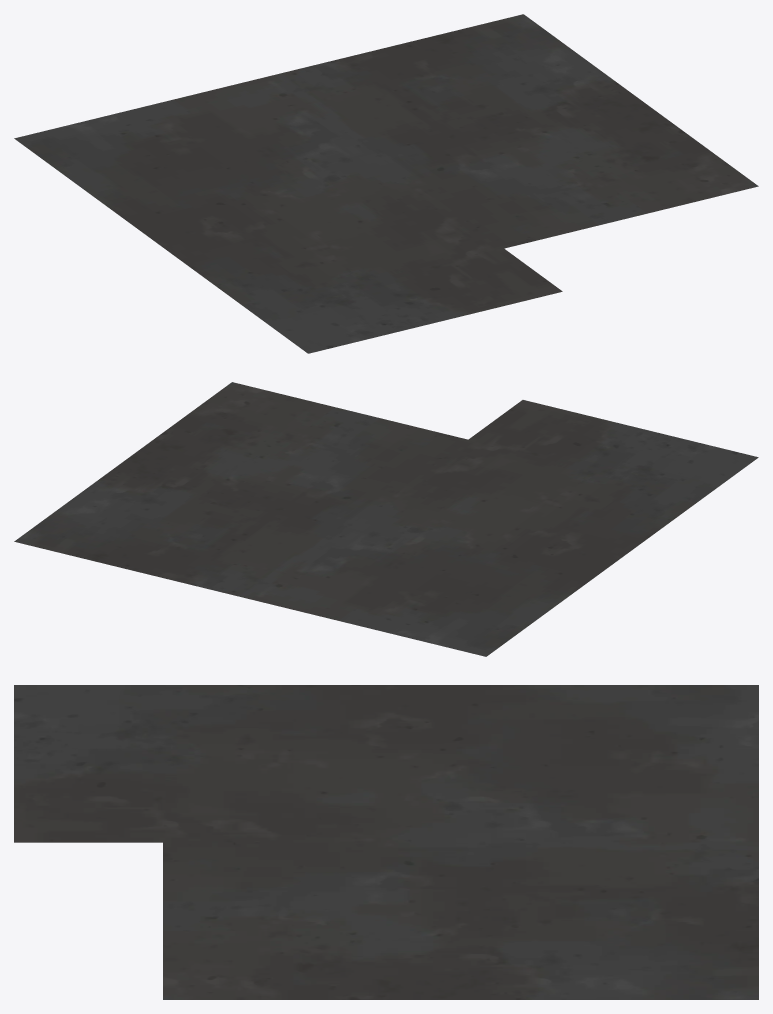
Rendered from Roof_2x2_90Angle_L.glb.
The picture shows the model from 3 angles, top to bottom: view 1: azimuth 30°, elevation 25°; view 2: azimuth 150°, elevation 25°; view 3: azimuth 270°, elevation 25°; orthographic projection. The views are drawn at different scales.
Visible parts, largest first — view 1: Roof_2x2_90Angle_L; view 2: Roof_2x2_90Angle_L; view 3: Roof_2x2_90Angle_L.
Boxes of the visible parts, box(x1,y1,x2,y2) form: Roof_2x2_90Angle_L: box(14, 14, 758, 353); Roof_2x2_90Angle_L: box(14, 382, 758, 656); Roof_2x2_90Angle_L: box(14, 685, 758, 999).
Size of the model in its own units: 2 by 0 by 2.
1 material, 1 textured.
